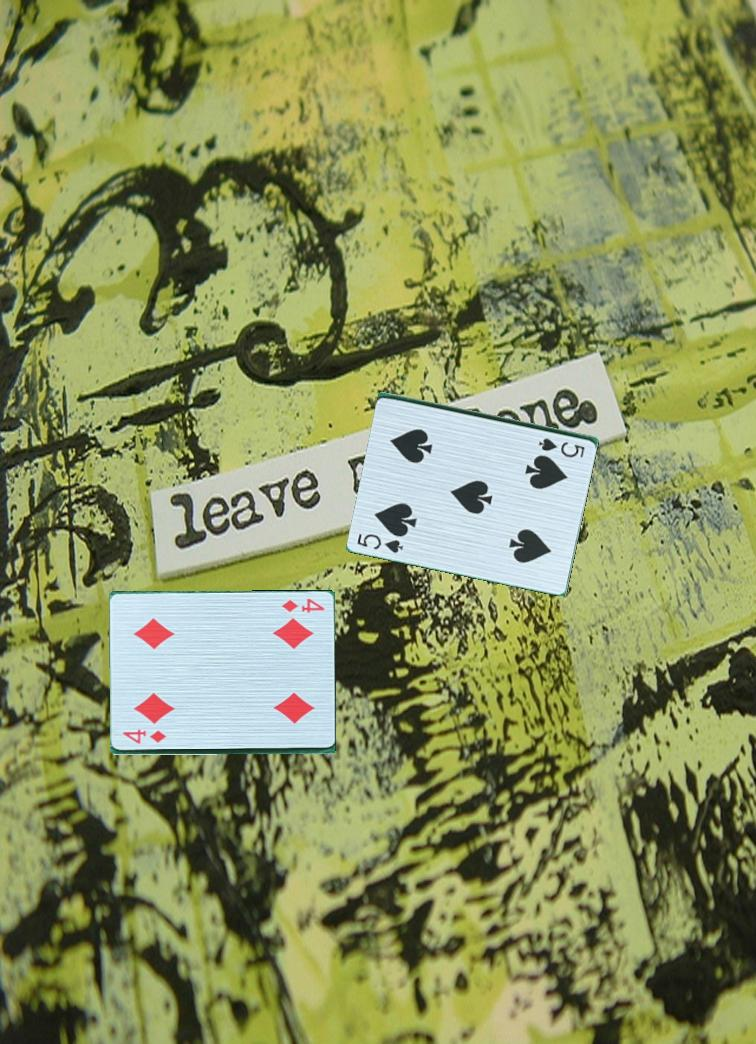4d: (278, 595, 327, 617), (119, 729, 168, 747)
5s: (353, 526, 410, 556), (535, 434, 593, 460)
